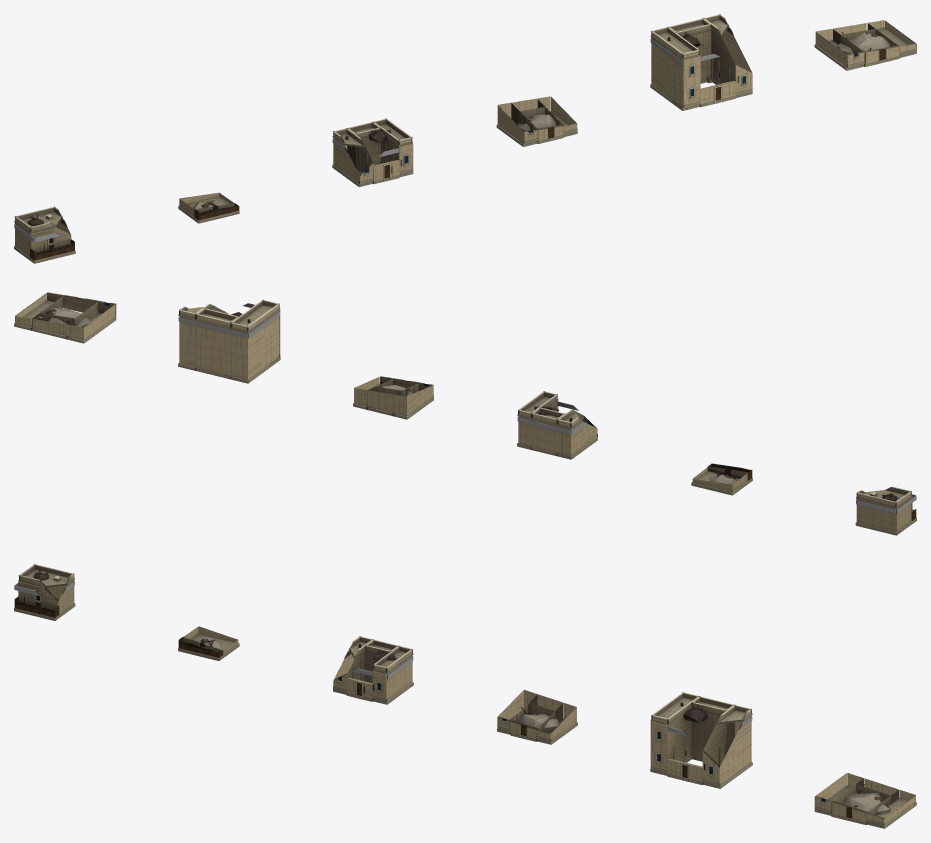
The model's file is kingdoms-israelite-houses-damage.glb.
3 views of the same model, one above another, from view 1: azimuth 30°, elevation 25°; view 2: azimuth 150°, elevation 25°; view 3: azimuth 330°, elevation 25° (orthographic).
Visible parts, largest first — view 1: LOD0.004, LOD0.002, LOD0.005, LOD0.003, LOD0, LOD0.001; view 2: LOD0.004, LOD0.002, LOD0.005, LOD0.003, LOD0, LOD0.001; view 3: LOD0.004, LOD0.002, LOD0.005, LOD0.003, LOD0, LOD0.001.
Boxes of the visible parts, box(x1,y1,x2,y2) form: LOD0.004: box(650, 14, 752, 110); LOD0.002: box(332, 118, 413, 187); LOD0.005: box(814, 20, 916, 70); LOD0.003: box(496, 96, 577, 146); LOD0: box(14, 206, 75, 263); LOD0.001: box(178, 192, 239, 223); LOD0.004: box(178, 299, 280, 383); LOD0.002: box(517, 391, 597, 459); LOD0.005: box(14, 292, 116, 343); LOD0.003: box(353, 376, 433, 419); LOD0: box(855, 486, 916, 535); LOD0.001: box(691, 463, 752, 495); LOD0.004: box(650, 692, 752, 788); LOD0.002: box(333, 636, 413, 704); LOD0.005: box(814, 773, 916, 828); LOD0.003: box(497, 690, 577, 744); LOD0: box(14, 564, 75, 620); LOD0.001: box(178, 626, 239, 660).
Size of what is drawn, in the model's own units: 16.02 by 0.9907 by 1.05.
2 materials, 2 textured.
